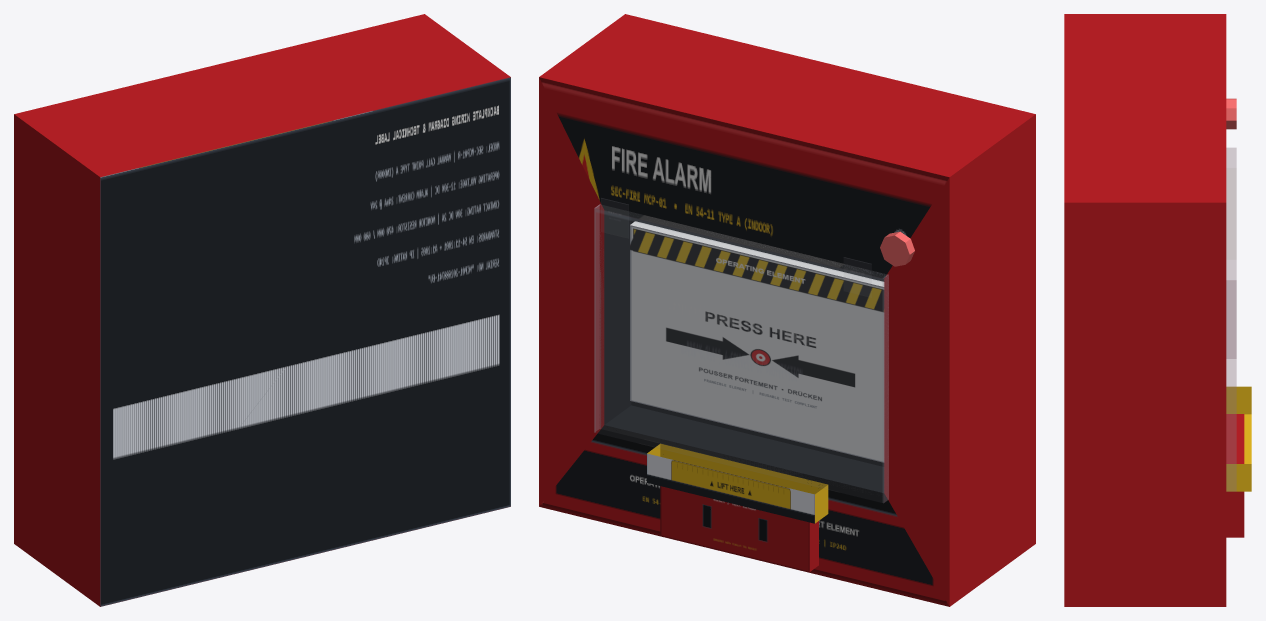
File: SEC_Alarm_Manual_Call_Point.fbx
3 views of the same model, side by side, from view 1: azimuth 30°, elevation 25°; view 2: azimuth 150°, elevation 25°; view 3: azimuth 270°, elevation 25° (orthographic). The views are drawn at different scales.
Visible parts, largest first — view 1: Housing; view 2: Housing, Breakable_Window, Press_Area, Reset_Cover; view 3: Housing, Breakable_Window, Reset_Cover.
Part boxes in pixels (x1=…): Housing: x1=14, y1=14, x2=510, y2=606; Housing: x1=539, y1=14, x2=1035, y2=606; Breakable_Window: x1=594, y1=198, x2=888, y2=523; Press_Area: x1=630, y1=221, x2=884, y2=462; Reset_Cover: x1=660, y1=486, x2=818, y2=571; Housing: x1=1064, y1=14, x2=1236, y2=606; Breakable_Window: x1=1226, y1=147, x2=1251, y2=491; Reset_Cover: x1=1226, y1=414, x2=1244, y2=537.
Bounding box in the file's own units: 0.088 × 0.088 × 0.037.
3 materials, 2 textured.
